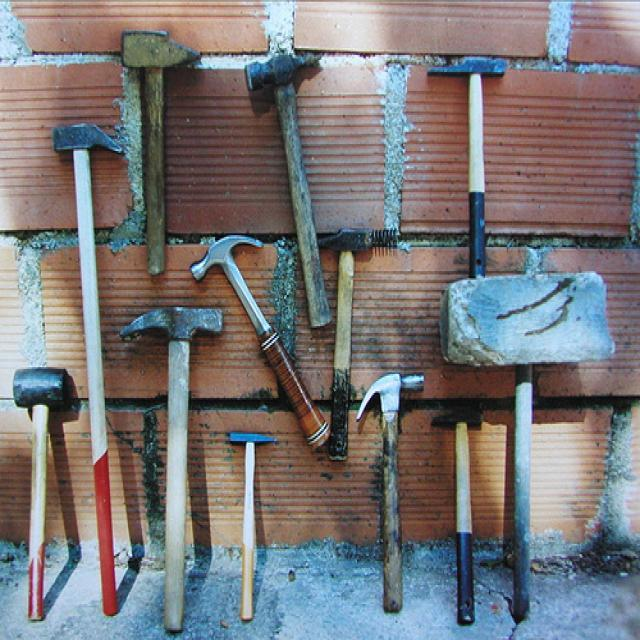hammer: (441, 265, 619, 640), (46, 107, 130, 620), (117, 299, 226, 640), (185, 228, 340, 441), (414, 44, 532, 286), (240, 39, 336, 314), (112, 22, 206, 294), (348, 352, 432, 616), (5, 354, 79, 634), (426, 397, 492, 639), (215, 421, 280, 630)
